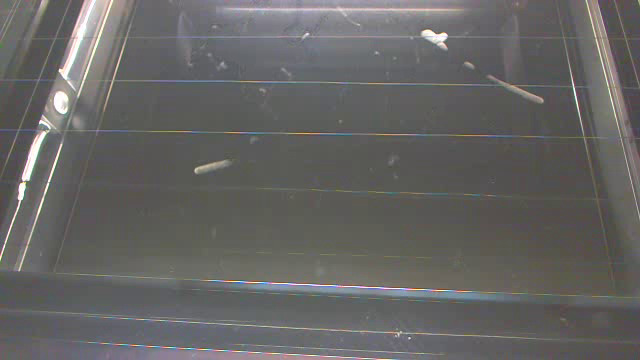alpha: (420, 25, 543, 108), (190, 153, 234, 179)
